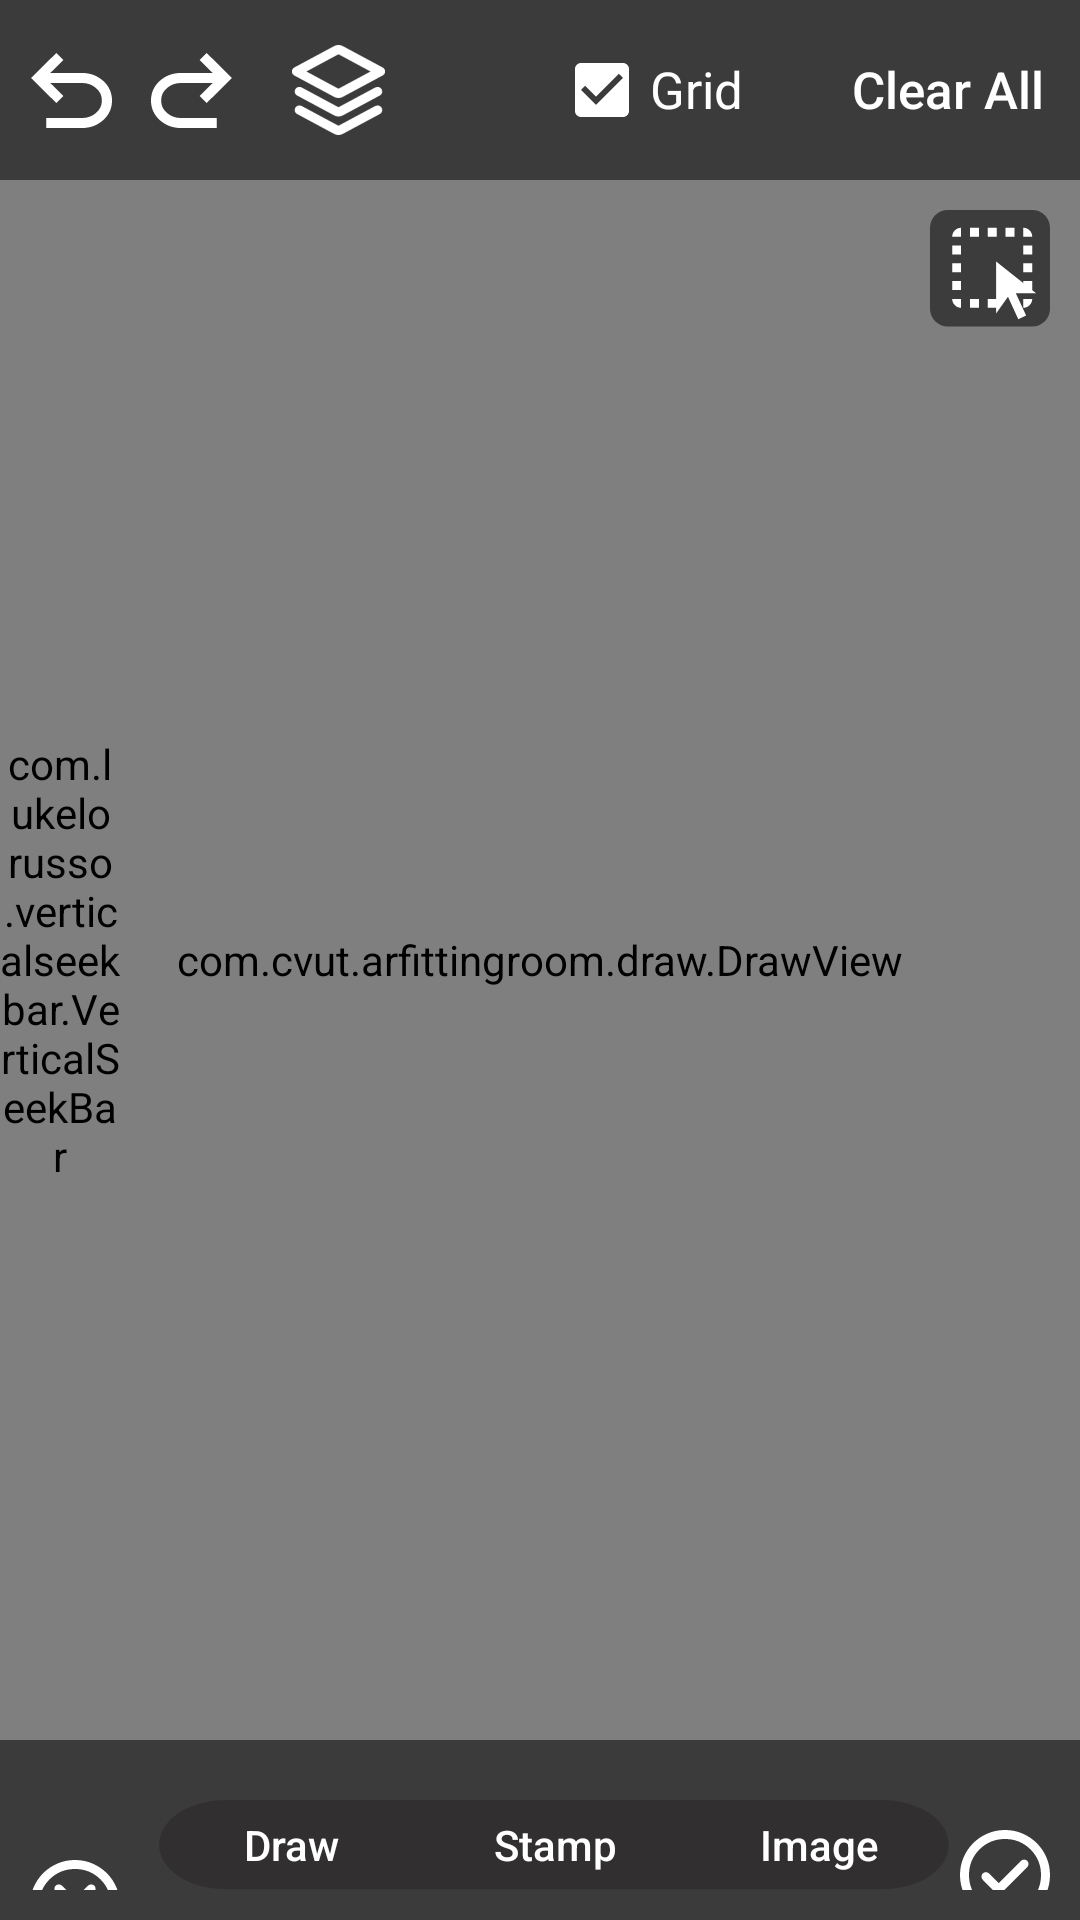

Icons on this 1080*1920 Android screen, each with the point to tap as point (x, y):
layers: point (338, 90)
redo: point (191, 90)
select: point (990, 268)
undo: point (71, 90)
